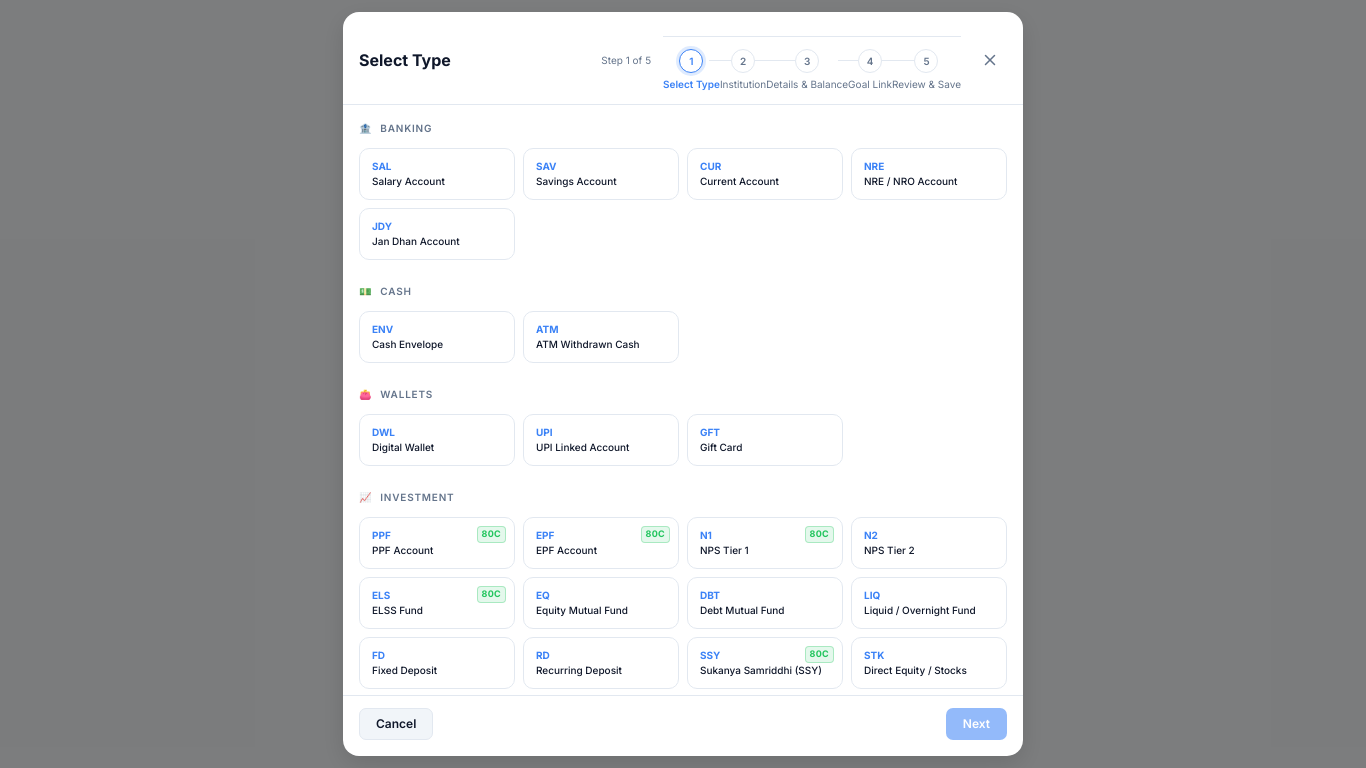
Test case: AccountFormWizard › advances to step 2 after selecting a type
Click the button "SAV Savings Account": click(601, 174) [523,148,679,200]
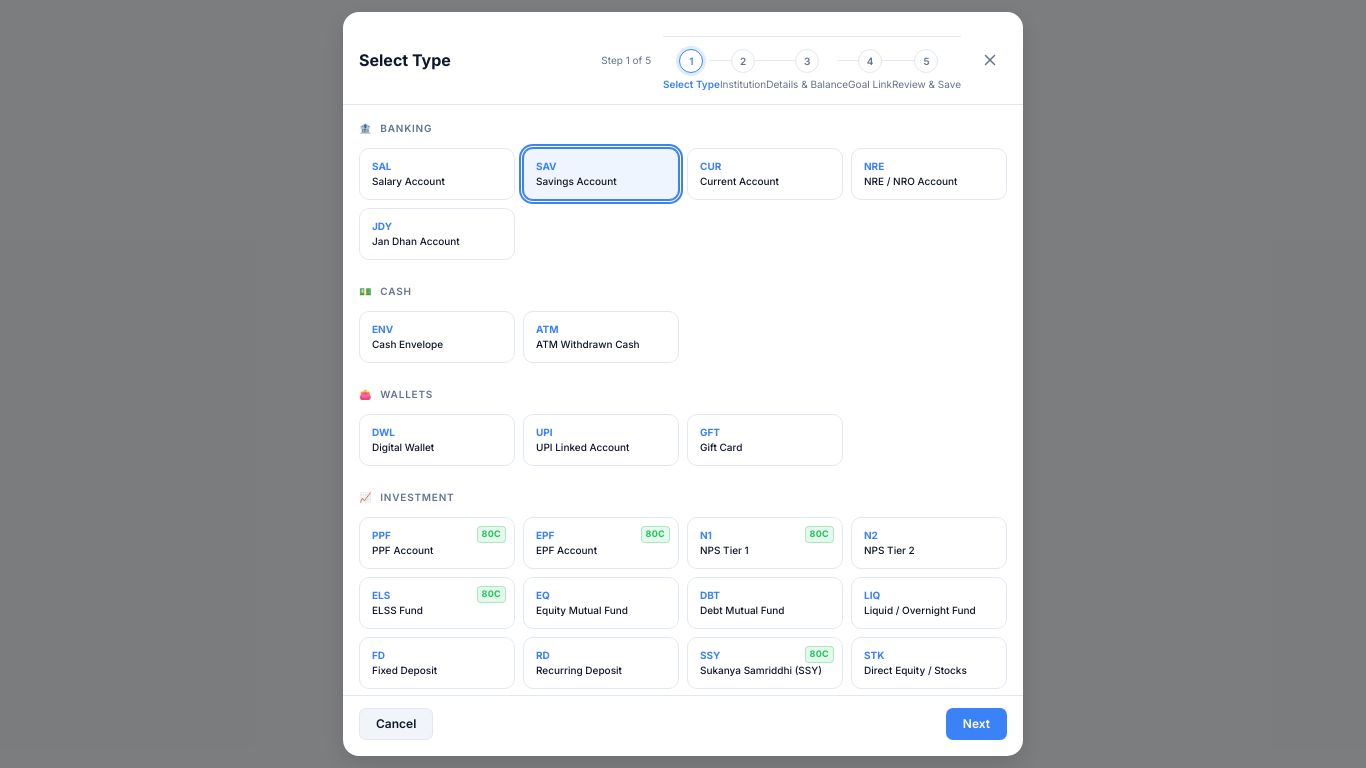
Click the button "Next": click(976, 724) [946,708,1007,740]
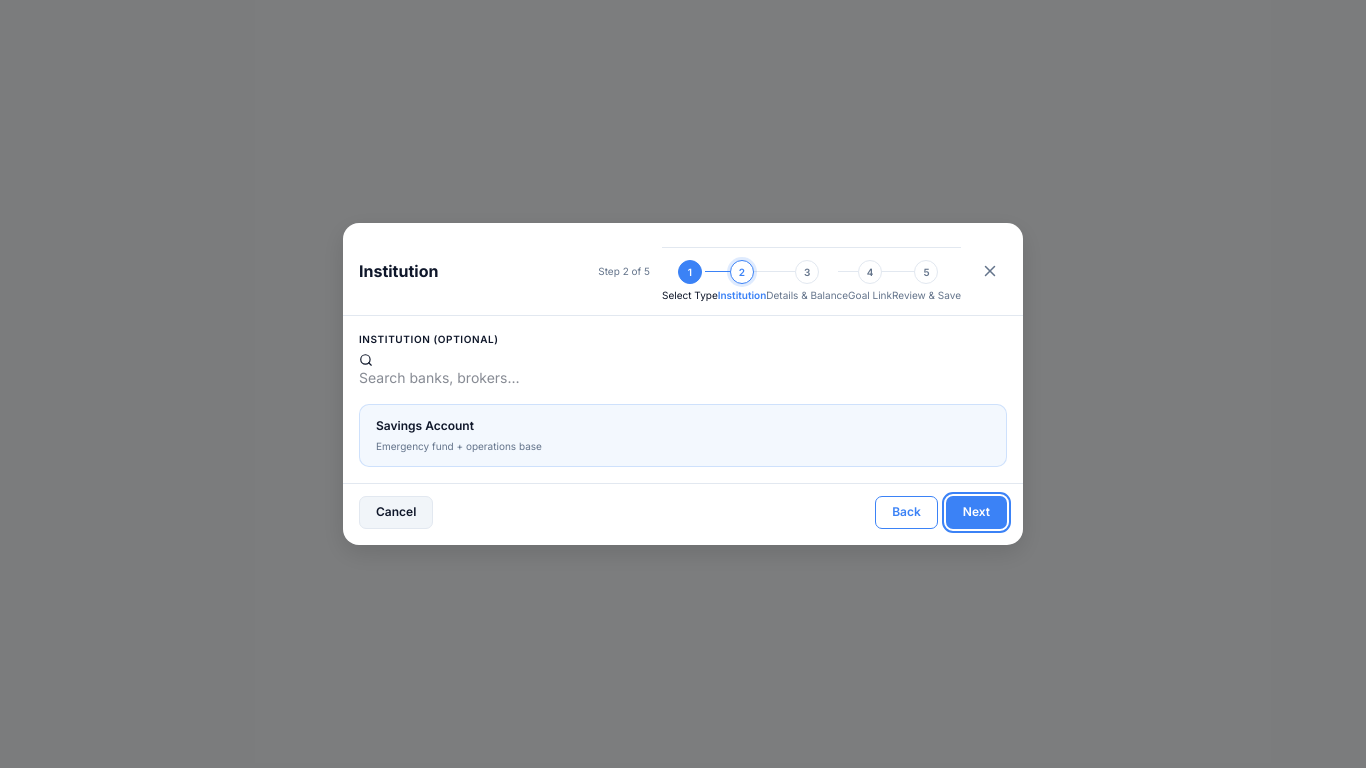
Result: the text "Step 2 of 5" is shown at [598,264,650,279]
